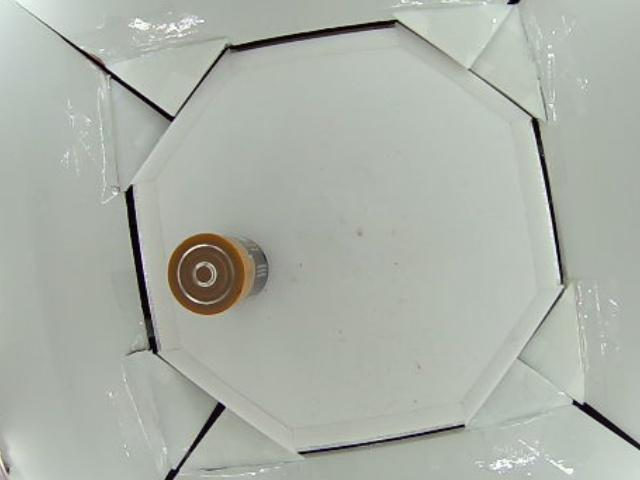Battery: (166, 231, 269, 315)
